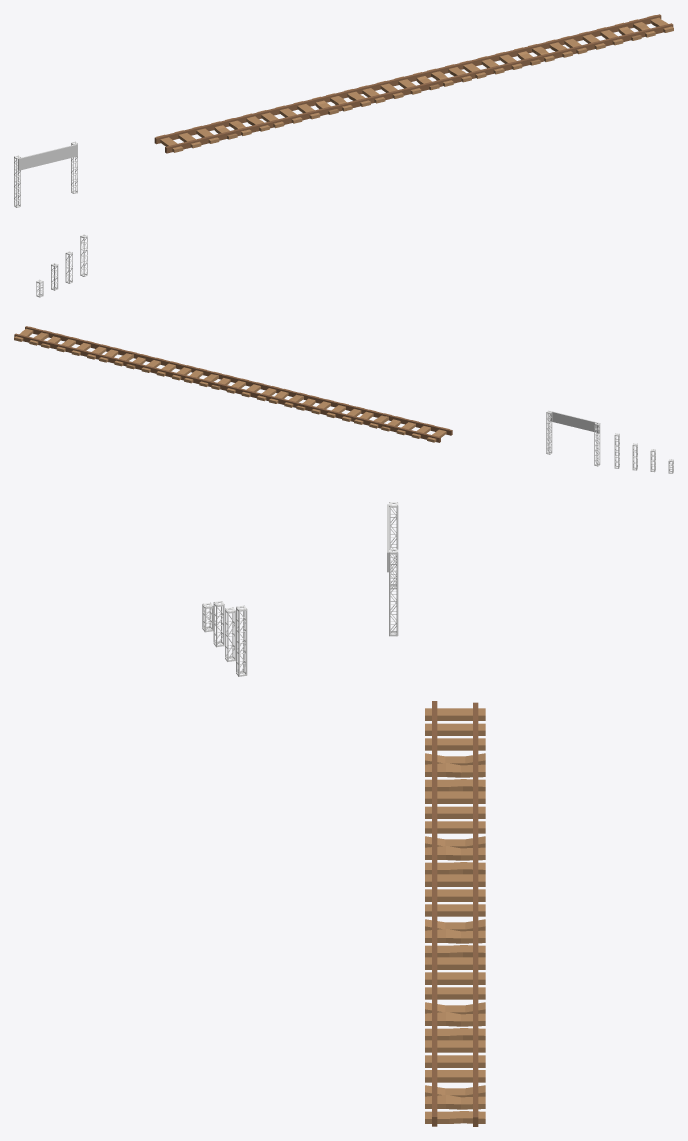
Rendered from Finish2.fbx.
The picture shows the model from 3 angles, top to bottom: view 1: azimuth 30°, elevation 25°; view 2: azimuth 150°, elevation 25°; view 3: azimuth 270°, elevation 25°; orthographic projection. The views are drawn at different scales.
Visible parts, largest first — view 1: Cube.003, Plane; view 2: Cube.003, Plane, Scaffold.005, Scaffold.004; view 3: Cube.003.
Part boxes in pixels (<box>): Cube.003: <box>154,14,673,153</box>; Plane: <box>18,144,77,170</box>; Cube.003: <box>14,326,452,442</box>; Plane: <box>550,411,599,433</box>; Scaffold.005: <box>546,410,552,454</box>; Scaffold.004: <box>594,422,600,466</box>; Cube.003: <box>425,701,485,1126</box>.
Size of the model in its own units: 4518 by 558 by 936.
